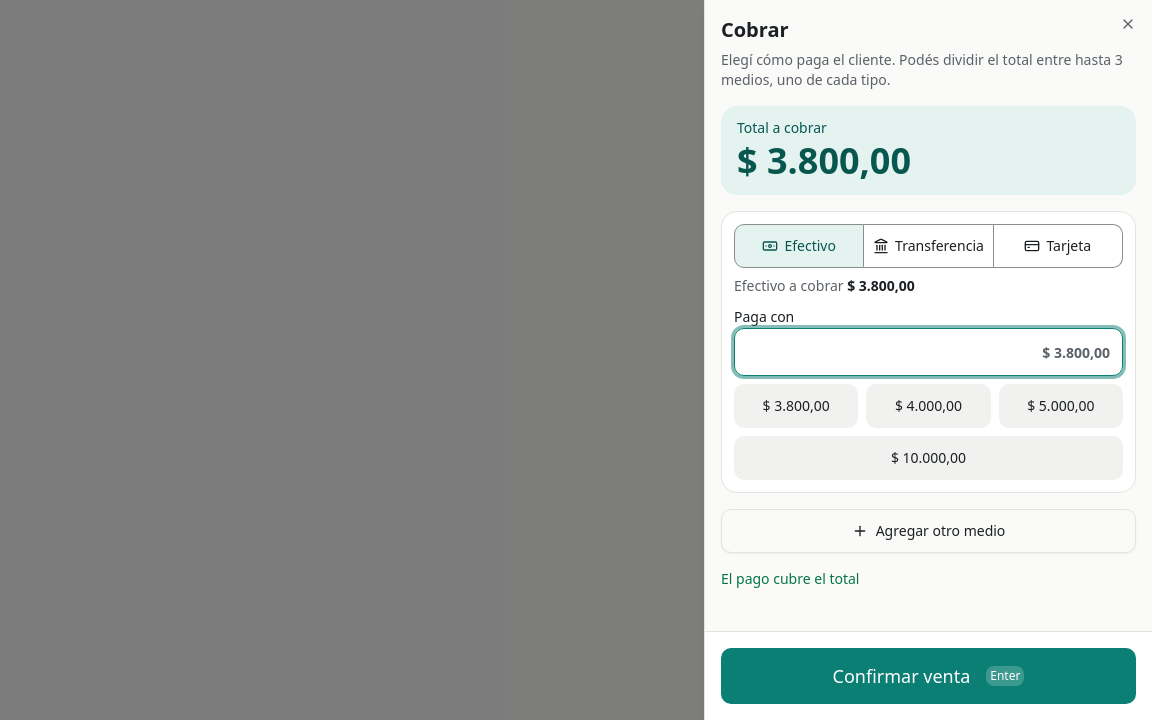
Test: CheckoutSheet: pagos › muestra 'Sobran' y bloquea la confirmacion cuando los otros medios superan el total (efectivo derivado 0)
The width and height of the screenshot is (1152, 720).
Expected: the field labelled "Paga con" is shown, [734,328,1123,376]
Click the button "Agregar otro medio".
click(928, 531)  # box [721,509,1136,553]
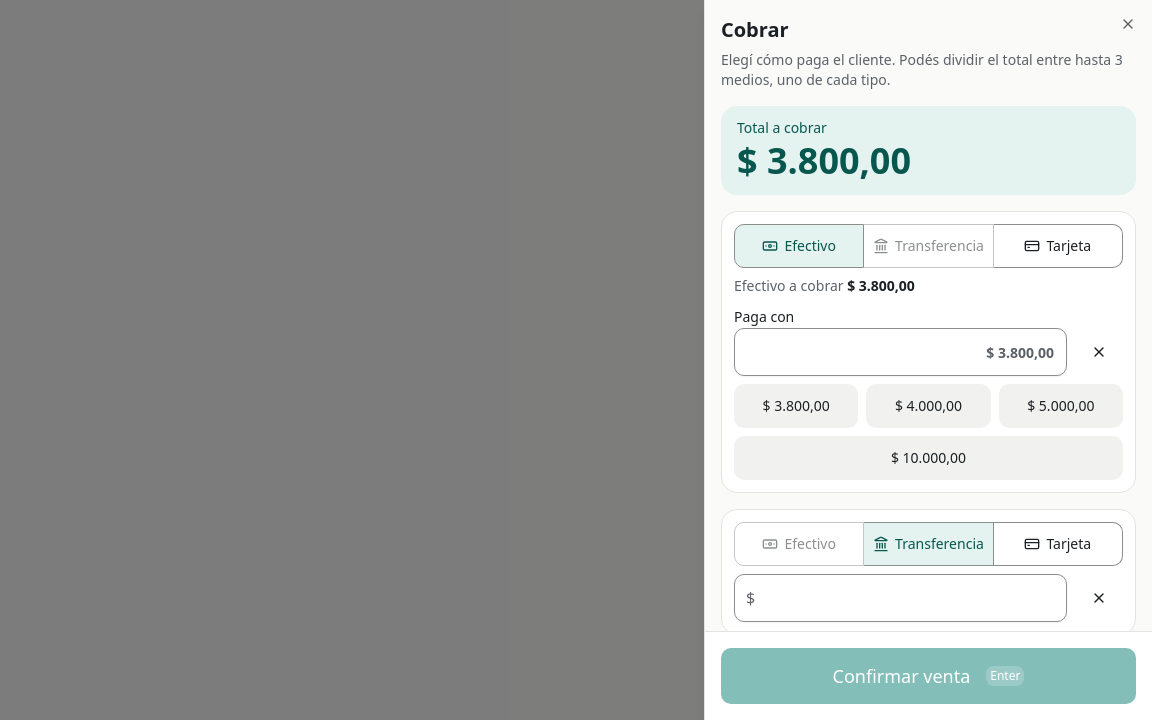
Type "4000" into the field named "monto transferencia".
click(900, 598); type("4000")  # box [734,574,1067,622]
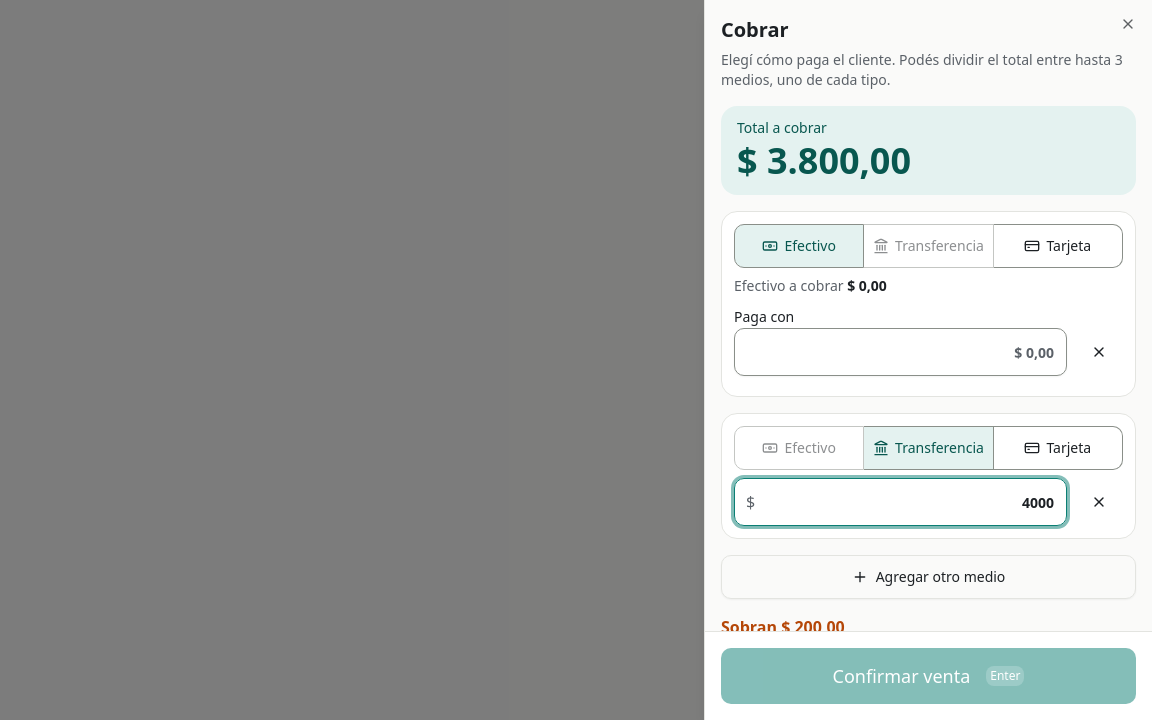
Expected: the button "Confirmar venta Enter" is disabled, [721,648,1136,704]
Expected: the text "Sobran $ 200,00" is shown, [721,616,845,631]
Expected: the text "Efectivo a cobrar $ 0,00" is shown, [734,276,887,295]
